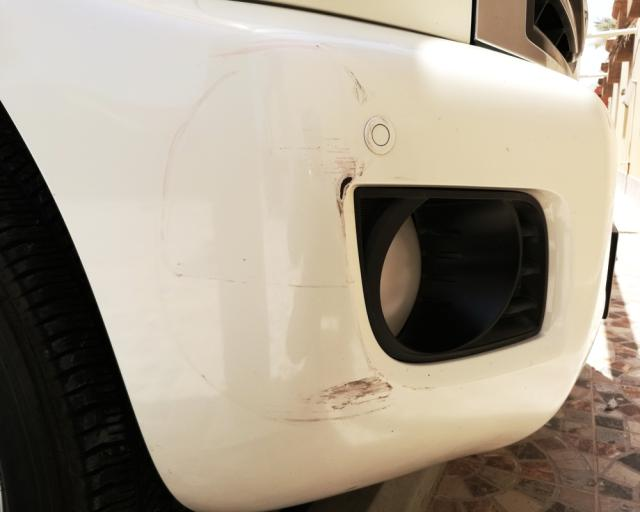scratch: (153, 42, 393, 433), (316, 67, 373, 224)
